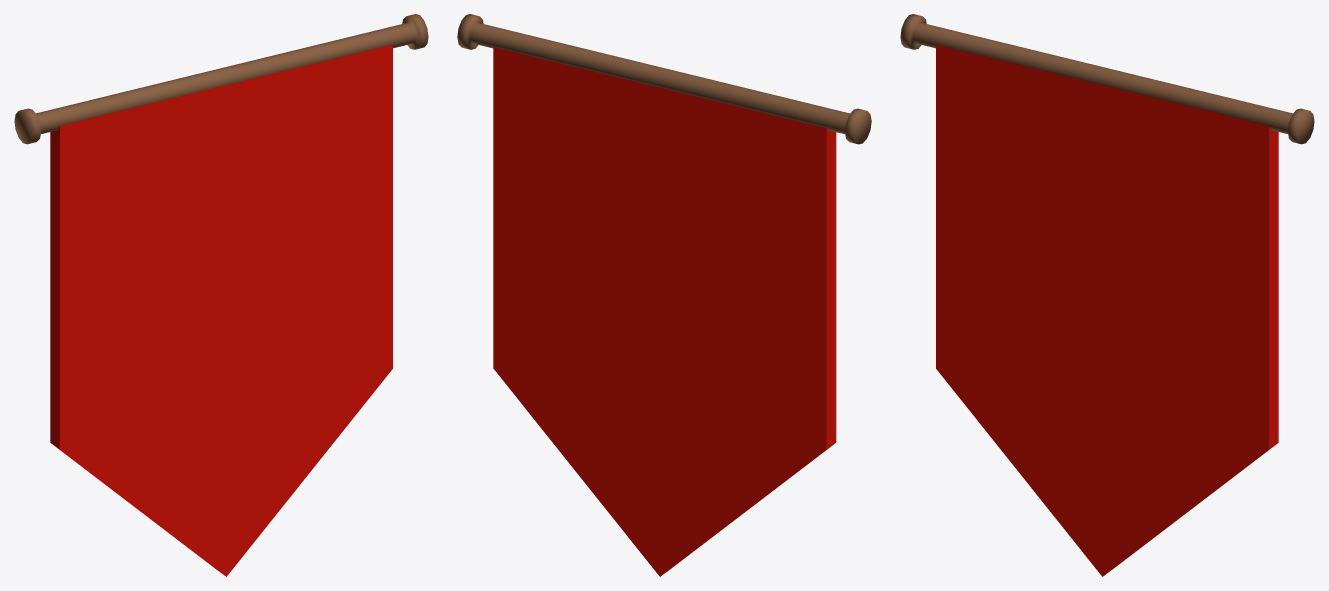
The model's file is Banner3.fbx.
3 renders of one model, left to right at view 1: azimuth 30°, elevation 25°; view 2: azimuth 150°, elevation 25°; view 3: azimuth 330°, elevation 25°, orthographic.
Parts seen in each view (by area): view 1: Arena_Flag_Banner_004; view 2: Arena_Flag_Banner_004; view 3: Arena_Flag_Banner_004.
Boxes of the visible parts, x1,y1,x2,y2 form: Arena_Flag_Banner_004: (14, 14, 428, 576); Arena_Flag_Banner_004: (457, 14, 871, 576); Arena_Flag_Banner_004: (900, 14, 1314, 576).
Bounding box in the file's own units: 8.41 × 10.33 × 0.6367.
